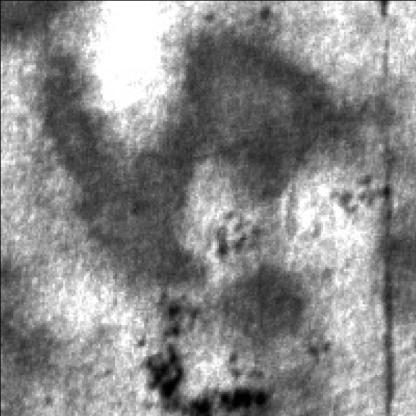inclusion: (129, 289, 270, 408)
patches: (35, 33, 352, 277), (196, 256, 320, 383), (0, 0, 102, 60)
